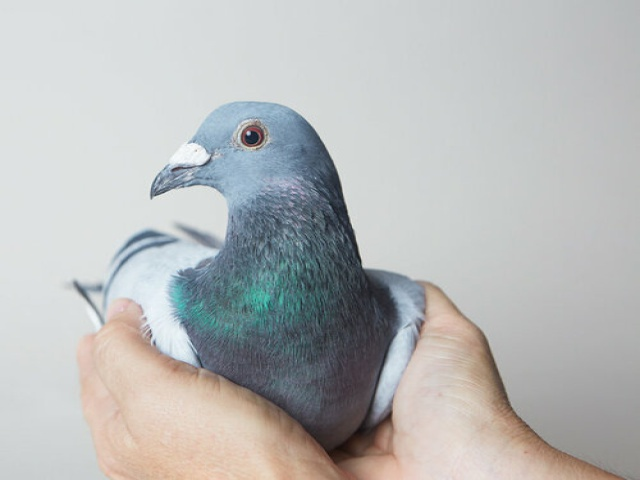Pigeon: (75, 93, 421, 413)
